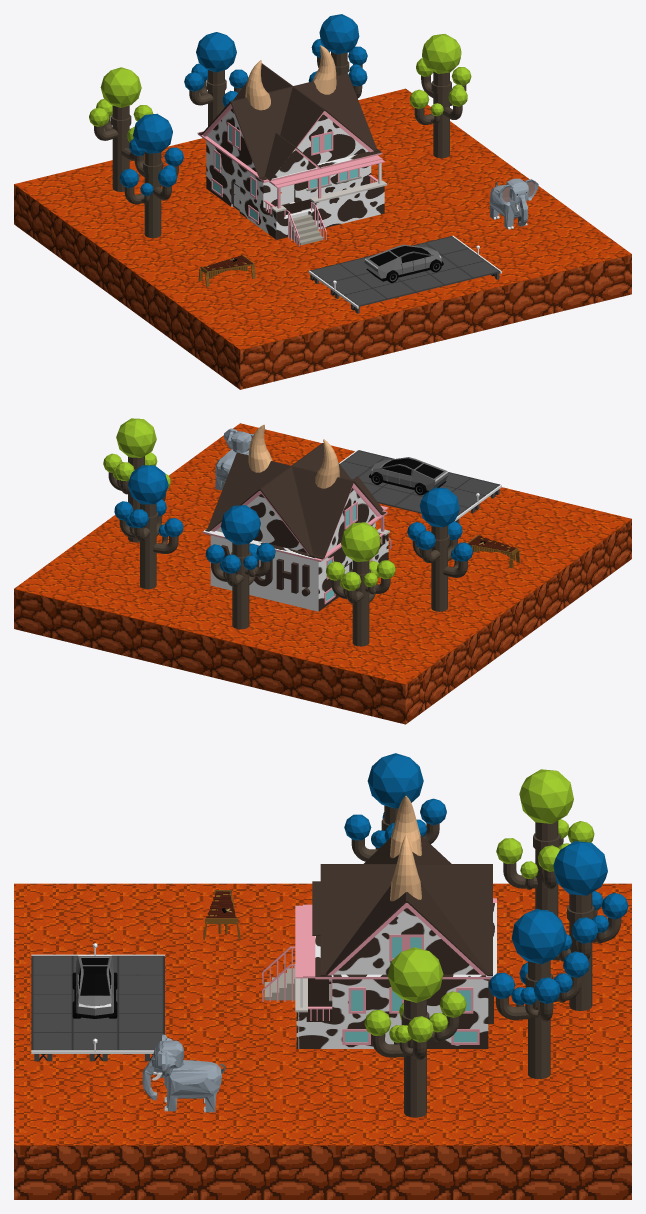
The picture shows the model from 3 angles, top to bottom: view 1: azimuth 30°, elevation 25°; view 2: azimuth 150°, elevation 25°; view 3: azimuth 270°, elevation 25°; orthographic projection. The views are drawn at different scales.
Parts seen in each view (by area): view 1: Cube.001, Cube.1242, VEHICLES_CYBERTRUCK, ANIMAL_ELEFANTE, OBJRANDOM_MARIMBA; view 2: Cube.001, Cube.1242, VEHICLES_CYBERTRUCK, ANIMAL_ELEFANTE, OBJRANDOM_MARIMBA; view 3: Cube.001, Cube.1242, ANIMAL_ELEFANTE, VEHICLES_CYBERTRUCK, OBJRANDOM_MARIMBA.
Boxes of the visible parts, left/top/right/bottom form: Cube.001: left=14, top=14, right=631, bottom=389; Cube.1242: left=197, top=45, right=387, bottom=246; VEHICLES_CYBERTRUCK: left=364, top=244, right=443, bottom=282; ANIMAL_ELEFANTE: left=489, top=178, right=538, bottom=229; OBJRANDOM_MARIMBA: left=198, top=254, right=255, bottom=286; Cube.001: left=14, top=418, right=631, bottom=724; Cube.1242: left=202, top=424, right=391, bottom=611; VEHICLES_CYBERTRUCK: left=369, top=457, right=448, bottom=495; ANIMAL_ELEFANTE: left=215, top=428, right=253, bottom=490; OBJRANDOM_MARIMBA: left=467, top=534, right=520, bottom=568; Cube.001: left=14, top=753, right=631, bottom=1199; Cube.1242: left=262, top=796, right=496, bottom=1048; ANIMAL_ELEFANTE: left=142, top=1034, right=225, bottom=1112; VEHICLES_CYBERTRUCK: left=72, top=955, right=117, bottom=1018; OBJRANDOM_MARIMBA: left=203, top=890, right=240, bottom=940.
Bounding box in the file's own units: 4000 × 1899 × 4000.
37 materials, 4 textured.
